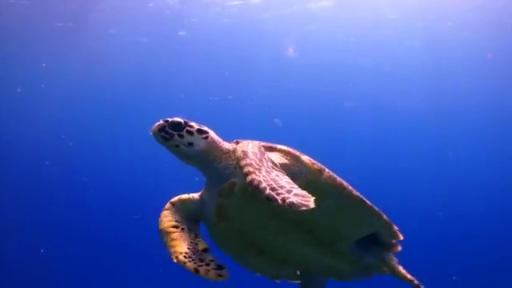Fish: (152, 118, 422, 287)
